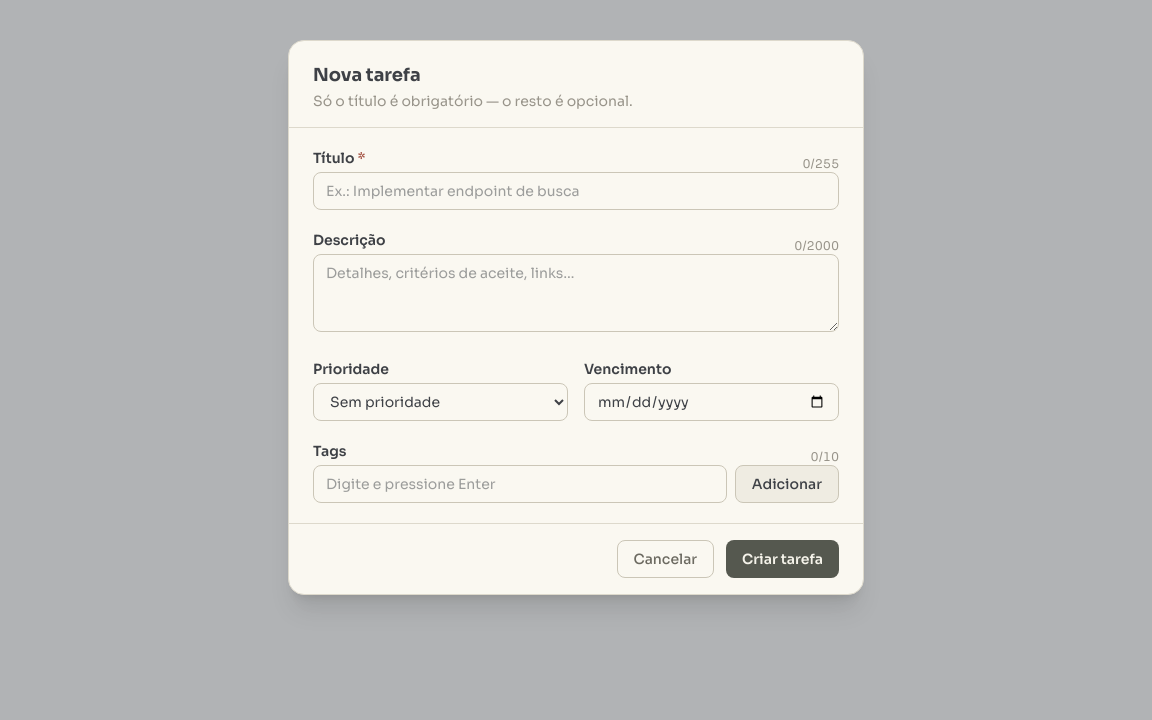
TaskForm - modo criação › não submete e mostra erro quando o título está vazio
This screenshot has width=1152, height=720.
What coordinates should you click on to do the following:
click the button "Criar tarefa"
I would click on:
 (783, 559)
Its box is [726,540,839,578].
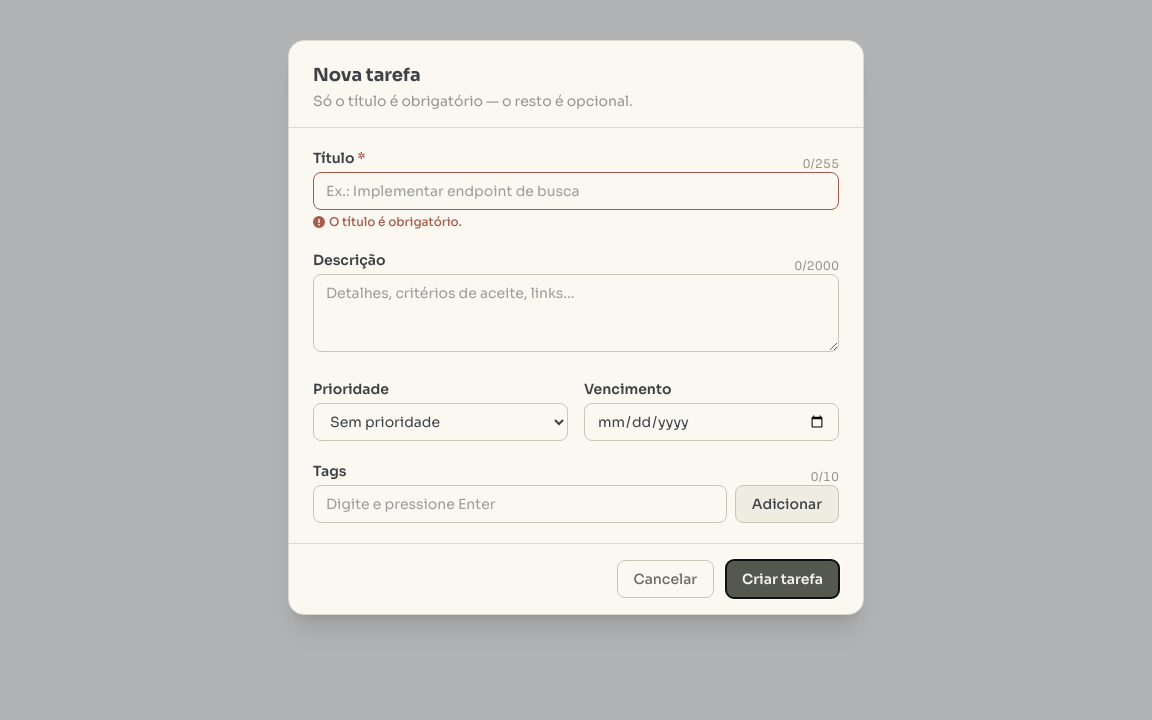
Check: the message reads "O título é obrigatório.", box [329,214,462,229]
